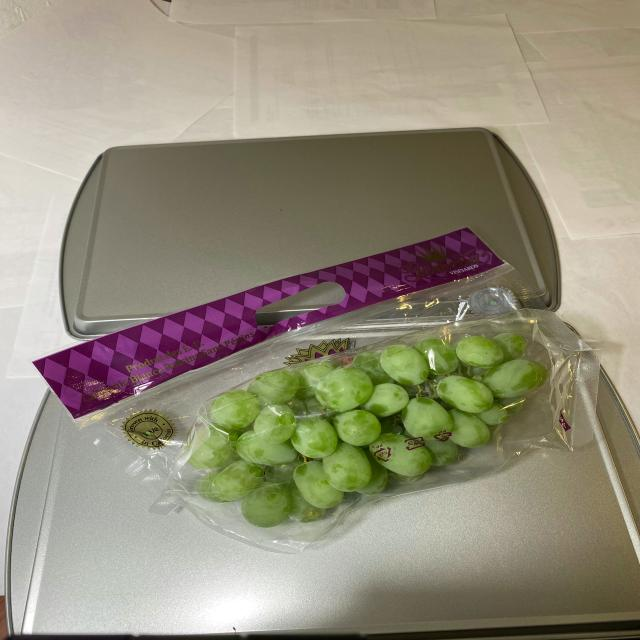grapes: (193, 318, 567, 521)
